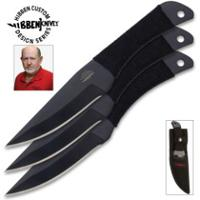knife: (2, 1, 187, 198)
